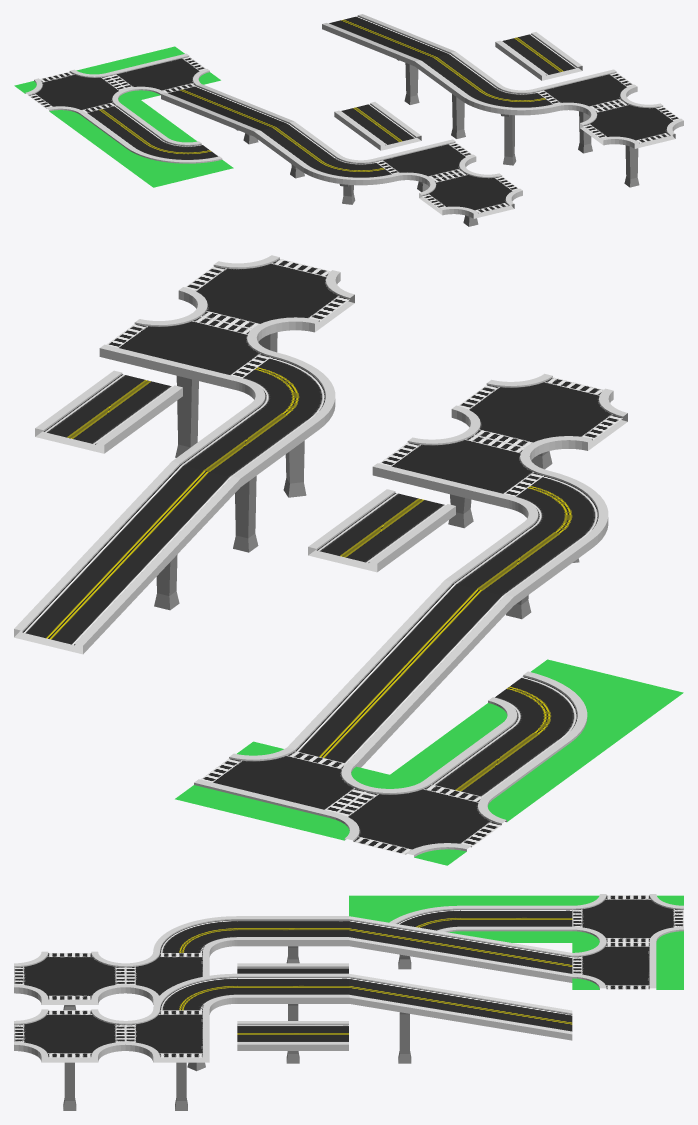
File: 2LN_Road_Pieces.fbx
The picture shows the model from 3 angles, top to bottom: view 1: azimuth 30°, elevation 25°; view 2: azimuth 150°, elevation 25°; view 3: azimuth 270°, elevation 25°; orthographic projection. The views are drawn at different scales.
Visible parts, largest first — view 1: LVL2_4Way_2LN, Turn_2LN, 4Way_2LN, Straight_2LN, 3Way_2LN, LVL1_4Way_2LN, LVL1T2_Straight_2LN, LVL0T1_Straight_2LN, LVL2_3Way_2LN, LVL1_3Way_2LN, LVL2_Straight_2LN, LVL2_Turn_2LN (+4 smaller); view 2: LVL1T2_Straight_2LN, LVL0T1_Straight_2LN, 3Way_2LN, 4Way_2LN, Straight_2LN, Turn_2LN, LVL2_4Way_2LN, LVL1_4Way_2LN, LVL2_3Way_2LN, LVL1_3Way_2LN, LVL2_Straight_2LN, LVL2_Straight_2LN_NoBase (+4 smaller); view 3: LVL1T2_Straight_2LN, LVL0T1_Straight_2LN, LVL2_4Way_2LN, 4Way_2LN, 3Way_2LN, Straight_2LN, LVL1_4Way_2LN, LVL2_3Way_2LN, LVL2_Straight_2LN, LVL1_Straight_2LN, Turn_2LN, LVL2_Straight_2LN_NoBase (+4 smaller).
Part boxes in pixels (x1,y1,x2,y2): LVL2_4Way_2LN: [580, 100, 683, 187]; Turn_2LN: [107, 134, 233, 187]; 4Way_2LN: [14, 66, 140, 119]; Straight_2LN: [61, 100, 186, 153]; 3Way_2LN: [95, 46, 220, 99]; LVL1_4Way_2LN: [419, 170, 522, 226]; LVL1T2_Straight_2LN: [322, 14, 454, 104]; LVL0T1_Straight_2LN: [161, 84, 293, 144]; LVL2_3Way_2LN: [534, 69, 637, 153]; LVL1_3Way_2LN: [373, 139, 476, 191]; LVL2_Straight_2LN: [415, 51, 501, 138]; LVL2_Turn_2LN: [461, 85, 556, 165]; LVL1T2_Straight_2LN: [14, 461, 240, 654]; LVL0T1_Straight_2LN: [287, 580, 513, 767]; 3Way_2LN: [175, 741, 389, 832]; 4Way_2LN: [311, 775, 525, 865]; Straight_2LN: [390, 717, 604, 807]; Turn_2LN: [469, 659, 683, 750]; LVL2_4Way_2LN: [178, 255, 354, 352]; LVL1_4Way_2LN: [451, 373, 627, 469]; LVL2_3Way_2LN: [99, 313, 275, 457]; LVL1_3Way_2LN: [372, 431, 548, 528]; LVL2_Straight_2LN: [172, 404, 319, 552]; LVL2_Straight_2LN_NoBase: [35, 370, 182, 453]; LVL1T2_Straight_2LN: [349, 973, 572, 1063]; LVL0T1_Straight_2LN: [349, 916, 572, 982]; LVL2_4Way_2LN: [14, 1009, 125, 1110]; 4Way_2LN: [572, 894, 683, 942]; 3Way_2LN: [572, 941, 683, 989]; Straight_2LN: [460, 895, 572, 942]; LVL1_4Way_2LN: [14, 951, 125, 1010]; LVL2_3Way_2LN: [125, 1009, 209, 1110]; LVL2_Straight_2LN: [237, 973, 348, 1063]; LVL1_Straight_2LN: [237, 916, 348, 963]; Turn_2LN: [349, 895, 460, 934]; LVL2_Straight_2LN_NoBase: [237, 1021, 348, 1050].
Size of the model in its own units: 110 by 17.35 by 132.
